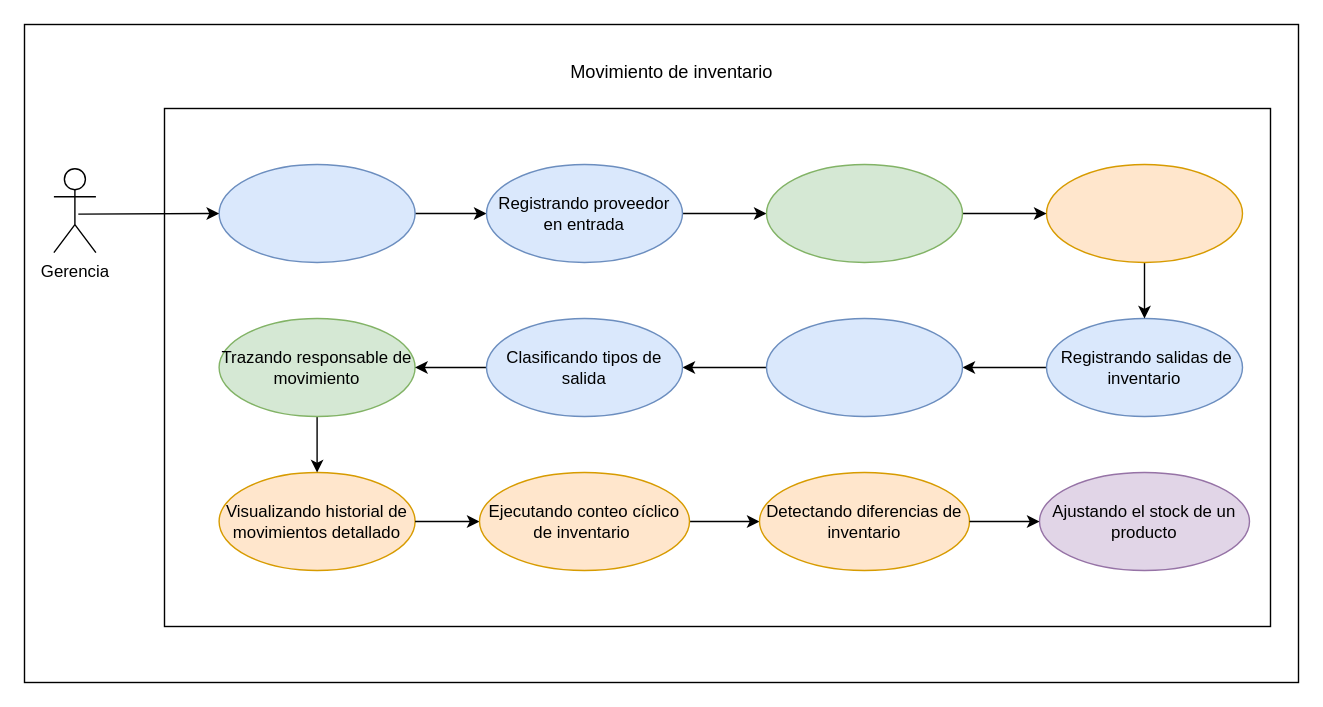
Some shapes in this 1323 by 707 pixel diagram are drawn without their labels. The shapes that lost their labels are listed below. From the top down, each one's centre as x and y in pixels, then its label:
the point at 316,212: Registrando entradas de inventario
the point at 863,212: Asociando entradas a facturas
the point at 1143,212: Registrando mediante código de barras
the point at 863,366: Registrando motivo de salida
